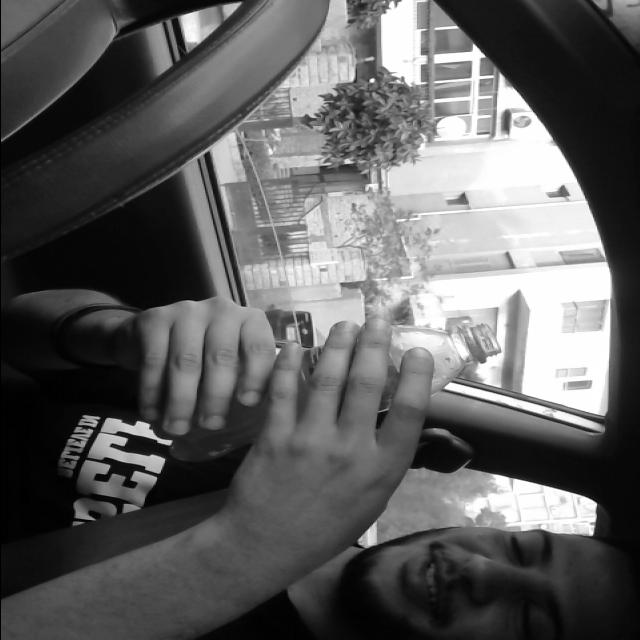drinking: (142, 314, 524, 468)
